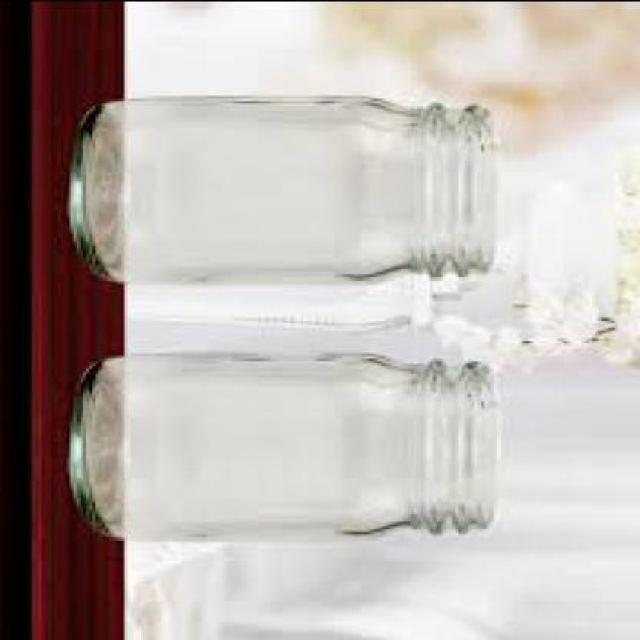GLASS: (73, 98, 501, 285), (73, 358, 501, 545)
